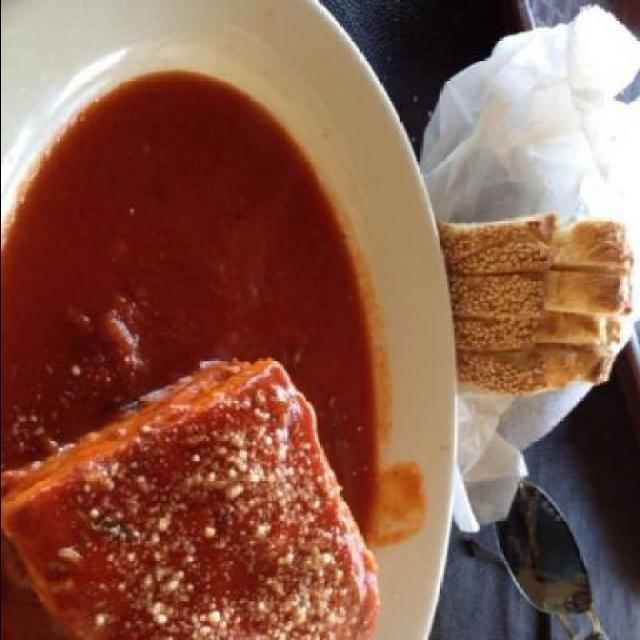Lasagna: (1, 342, 394, 638)
